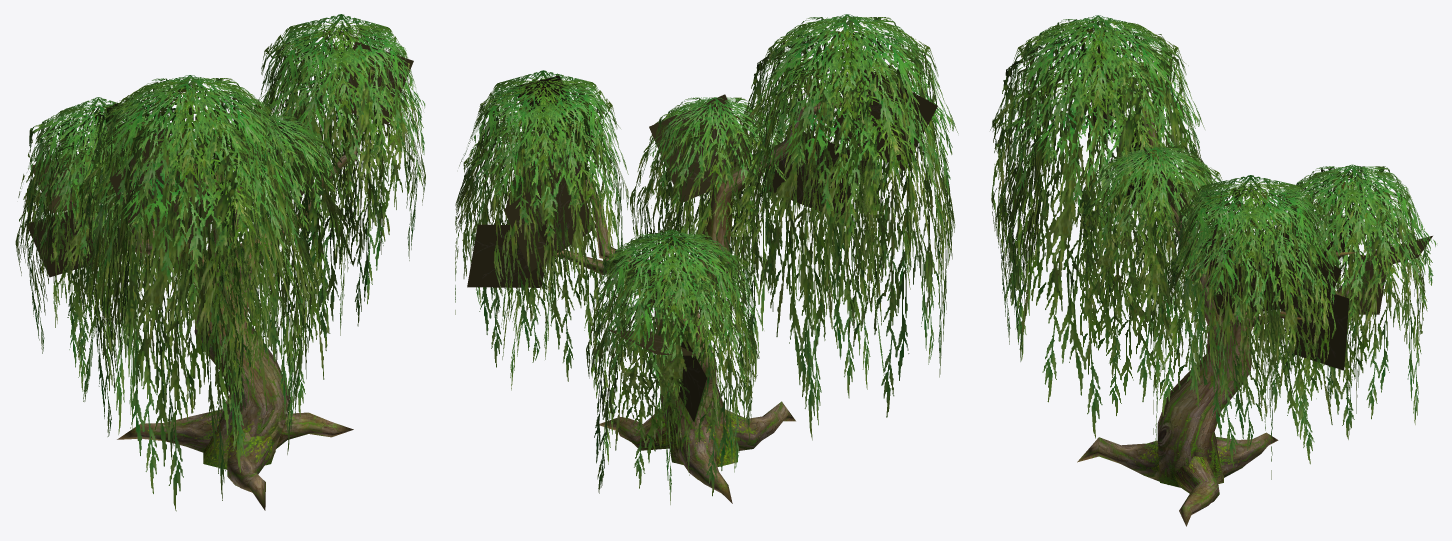
The model's file is Dingqingchuan_wujian_02.FBX.
3 renders of one model, left to right at view 1: azimuth 30°, elevation 25°; view 2: azimuth 150°, elevation 25°; view 3: azimuth 270°, elevation 25°, orthographic. The views are drawn at different scales.
Parts seen in each view (by area): view 1: plant_tre04, Cylinder15, Plane07; view 2: plant_tre04, Plane07, Cylinder15; view 3: plant_tre04, Cylinder15, Plane07.
Part boxes in pixels (x1,y1,x2,y2): plant_tre04: [15, 14, 425, 511]; Cylinder15: [47, 116, 359, 510]; Plane07: [26, 41, 413, 277]; plant_tre04: [455, 14, 958, 504]; Plane07: [467, 69, 937, 421]; Cylinder15: [555, 92, 859, 503]; plant_tre04: [990, 15, 1437, 479]; Cylinder15: [1077, 62, 1393, 526]; Plane07: [1088, 49, 1432, 370].
Size of the model in its own units: 6.72 by 6.85 by 6.69.
